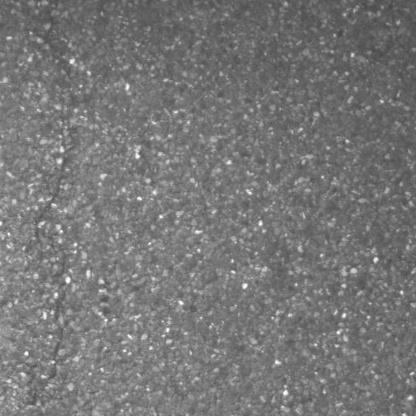Cracks: (31, 112, 72, 256), (29, 323, 69, 416)
